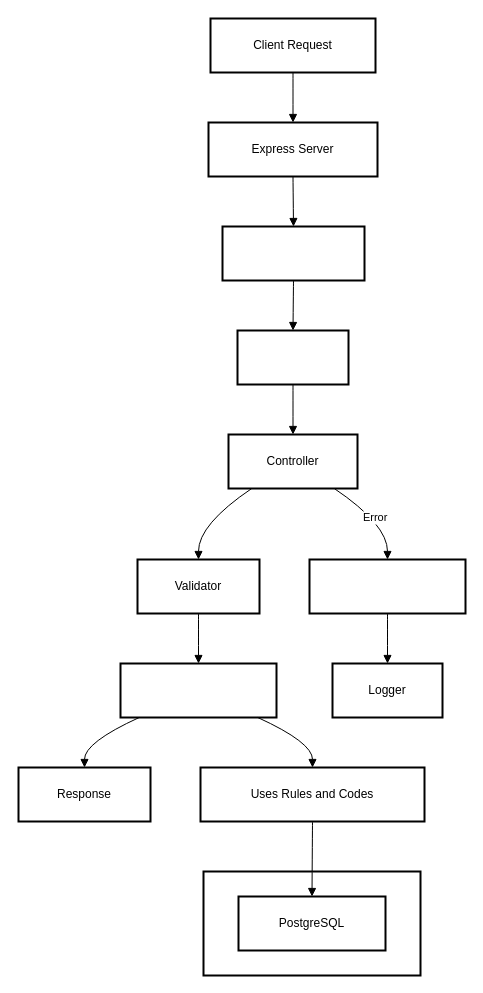
Image size: 483x993. Some labels were removed from this diagram. Here are the shapes that lost their labels. From the top down, the centre of each, then its label:
the point at 293,253: Middleware
the point at 292,357: Routes
the point at 387,586: Error Handler
the point at 198,690: Labeler Logic
